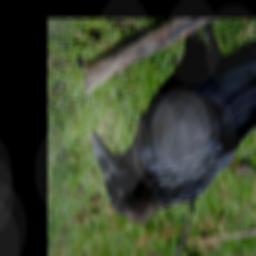Crow: (90, 19, 256, 224)
